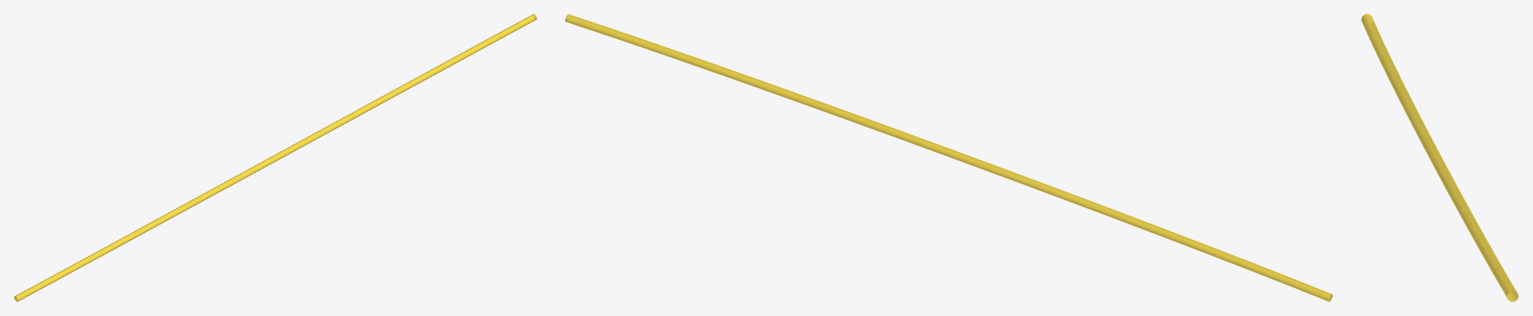
File: Event_419990632_track_91.fbx
3 views of the same model, side by side, from view 1: azimuth 30°, elevation 25°; view 2: azimuth 150°, elevation 25°; view 3: azimuth 270°, elevation 25° (orthographic). The views are drawn at different scales.
Visible parts, largest first — view 1: Model; view 2: Model; view 3: Model.
Boxes of the visible parts, <box> form: Model: <box>14,14,536,301</box>; Model: <box>565,14,1332,301</box>; Model: <box>1361,14,1518,301</box>.
Bounding box in the file's own units: 3.96 × 0.8115 × 0.5501.
